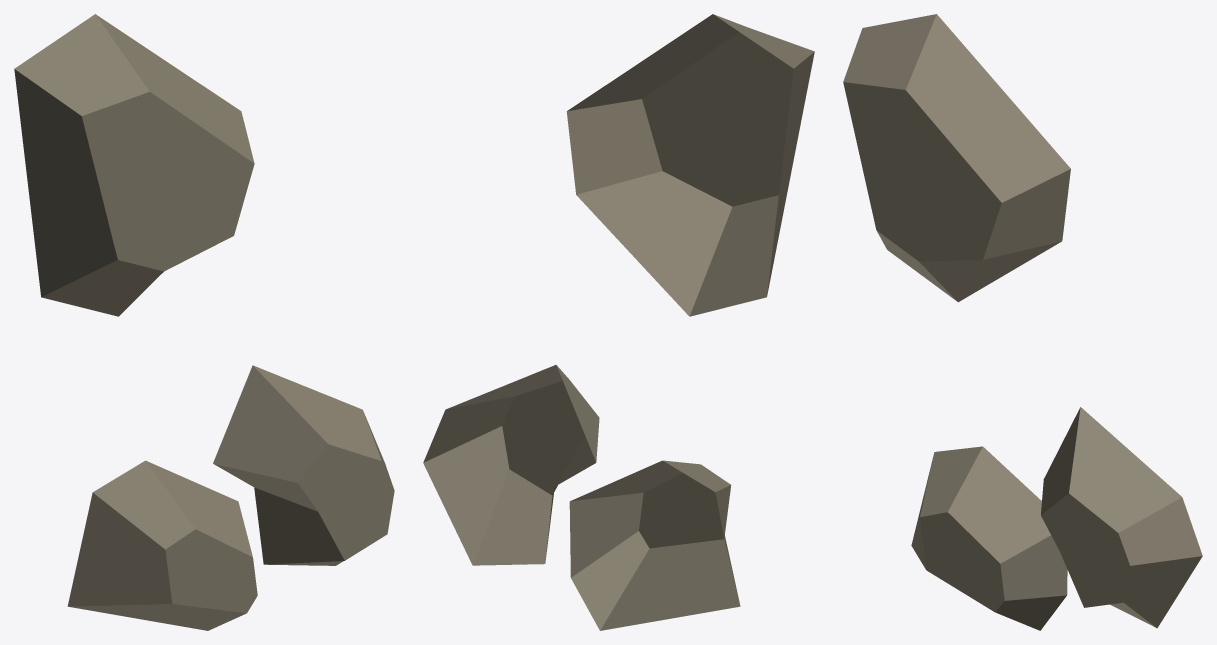
File: Cailloux02.fbx
The picture shows the model from 3 angles, left to right: view 1: azimuth 30°, elevation 25°; view 2: azimuth 150°, elevation 25°; view 3: azimuth 330°, elevation 25°; orthographic projection. The views are drawn at different scales.
Parts seen in each view (by area): view 1: Cailloux02; view 2: Cailloux02; view 3: Cailloux02.
Part boxes in pixels (box(x1,y1,x2,y2)): Cailloux02: box(14, 14, 394, 630); Cailloux02: box(423, 14, 814, 630); Cailloux02: box(843, 14, 1202, 630).
Bounding box in the file's own units: 104 × 173 × 21.71.
